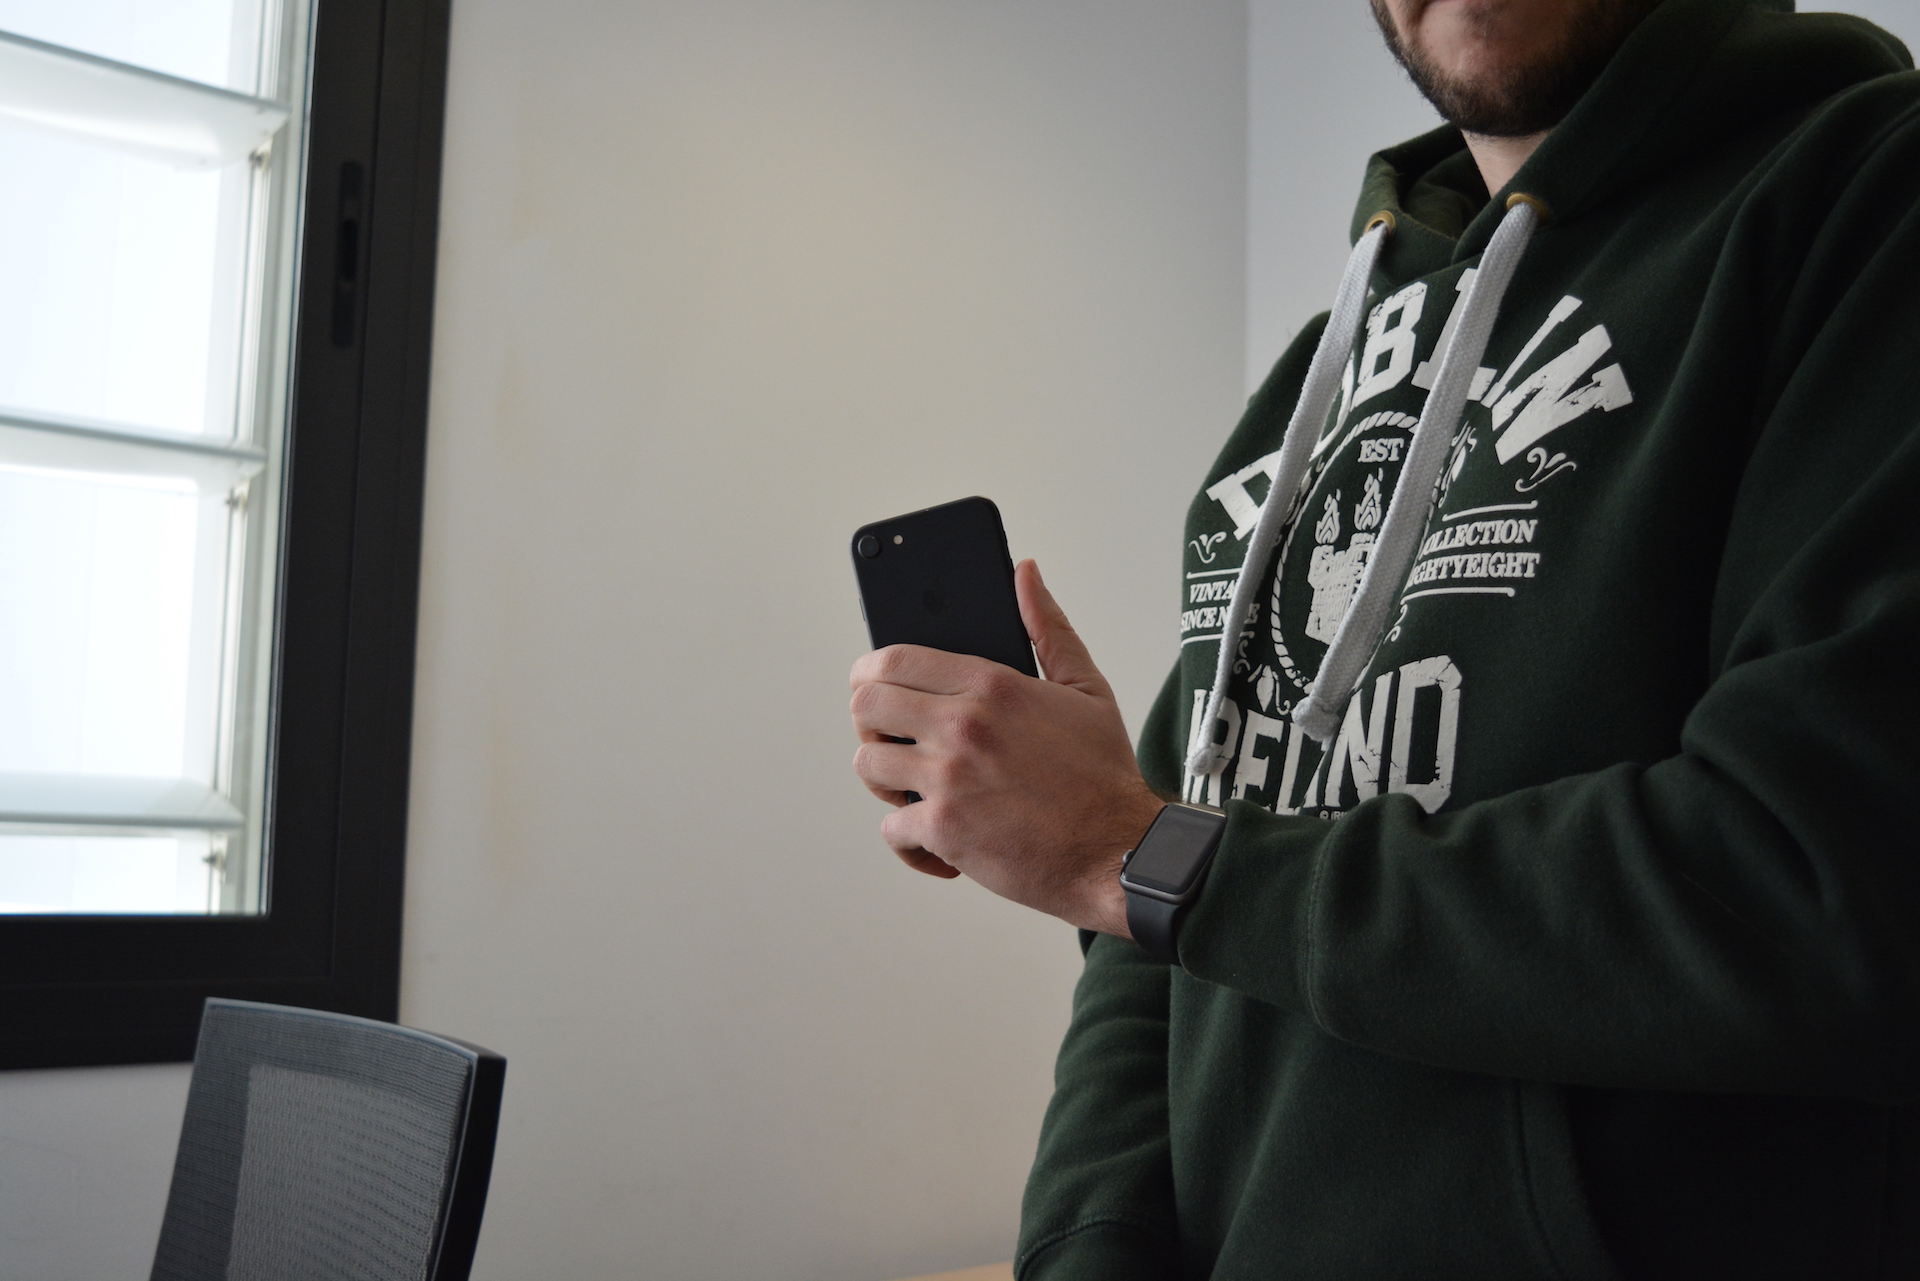smartphone: (845, 492, 1045, 812)
